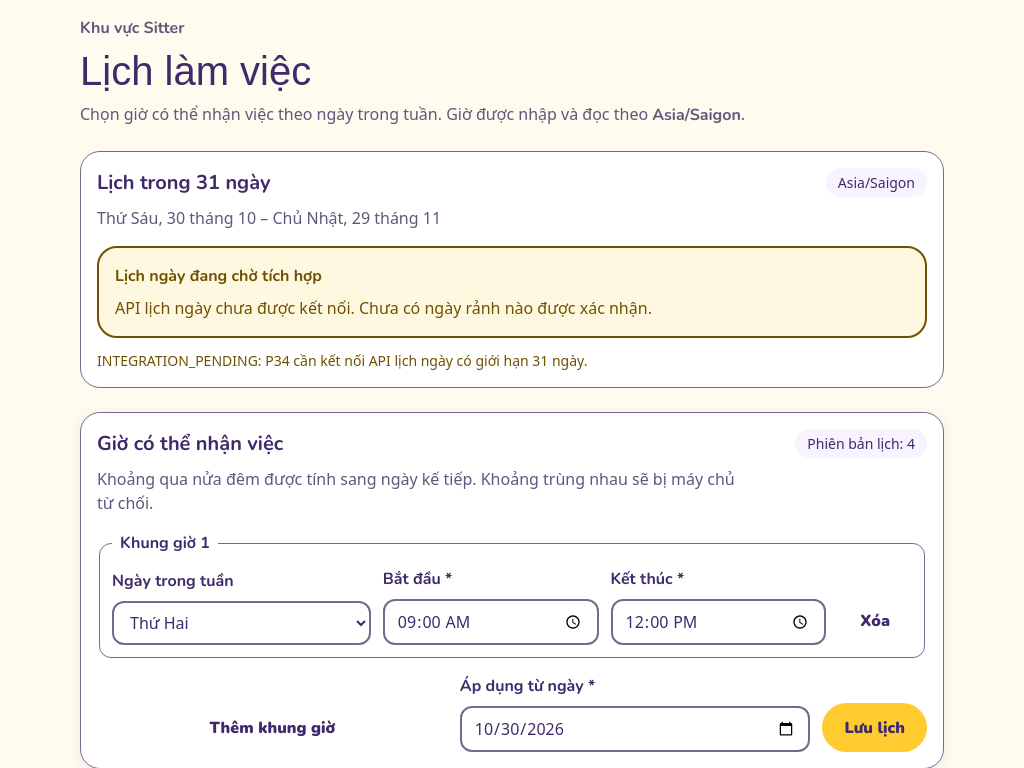
Test case: SitterAvailabilityPage › keeps the old schedule and directs confirmed-visit conflicts to Staff
Expected: the heading "Giờ có thể nhận việc" is shown, [97,430,283,457]
Expected: the time field labelled "Bắt đầu *" is shown, [383,599,598,645]
Click the button "Lưu lịch": (875, 728) [822,703,927,752]
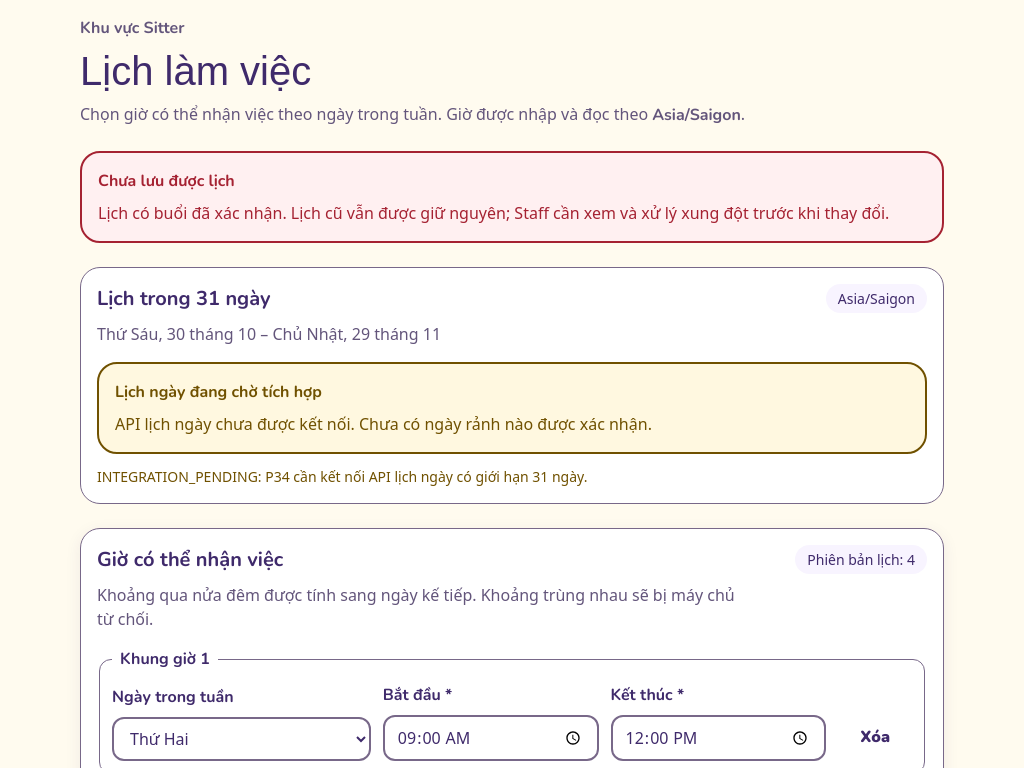
Expected: the time field labelled "Bắt đầu *" holds "09:00", [383,715,598,761]
Now the text "Staff cần xem và xử lý xung đột" is shown, box [98,202,889,224]
